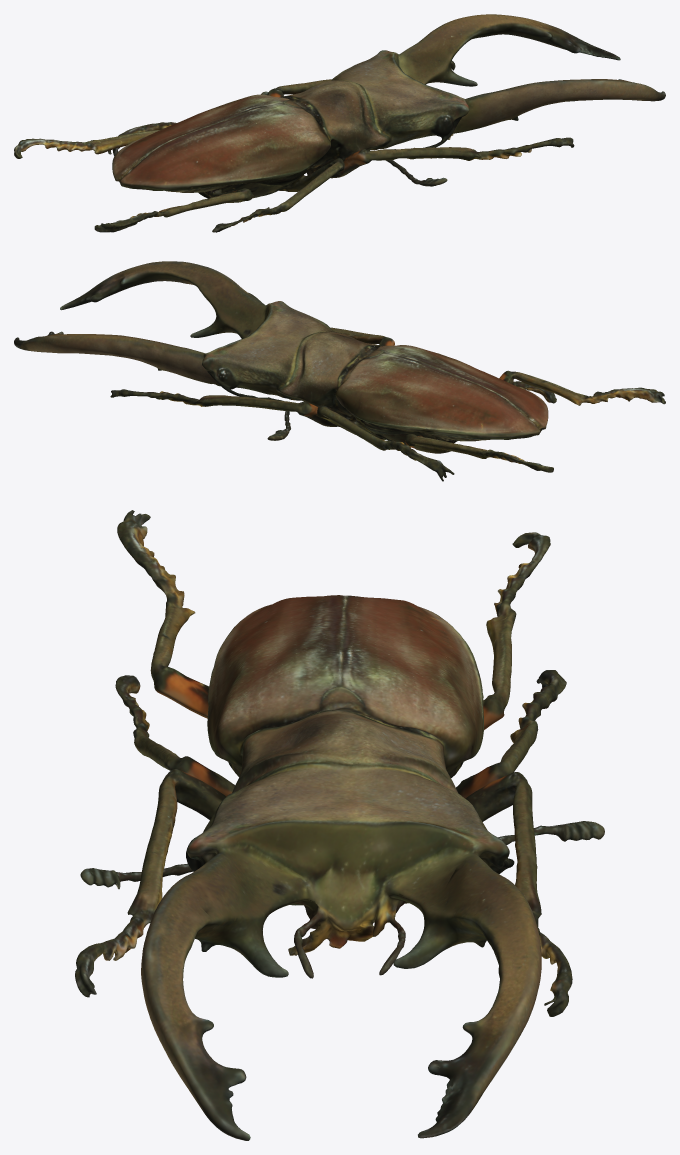
The model's file is Stag beetle.glb.
3 renders of one model, top to bottom at view 1: azimuth 30°, elevation 25°; view 2: azimuth 150°, elevation 25°; view 3: azimuth 270°, elevation 25°, orthographic. The views are drawn at different scales.
Visible parts, largest first — view 1: Group32140; view 2: Group32140; view 3: Group32140.
Part boxes in pixels (x1,y1,x2,y2): Group32140: (14,14,665,232); Group32140: (14,261,665,481); Group32140: (75,510,604,1140).
Bounding box in the file's own units: 0.0612 × 0.00861 × 0.0242.
Materials: 1 (1 with a texture image).
